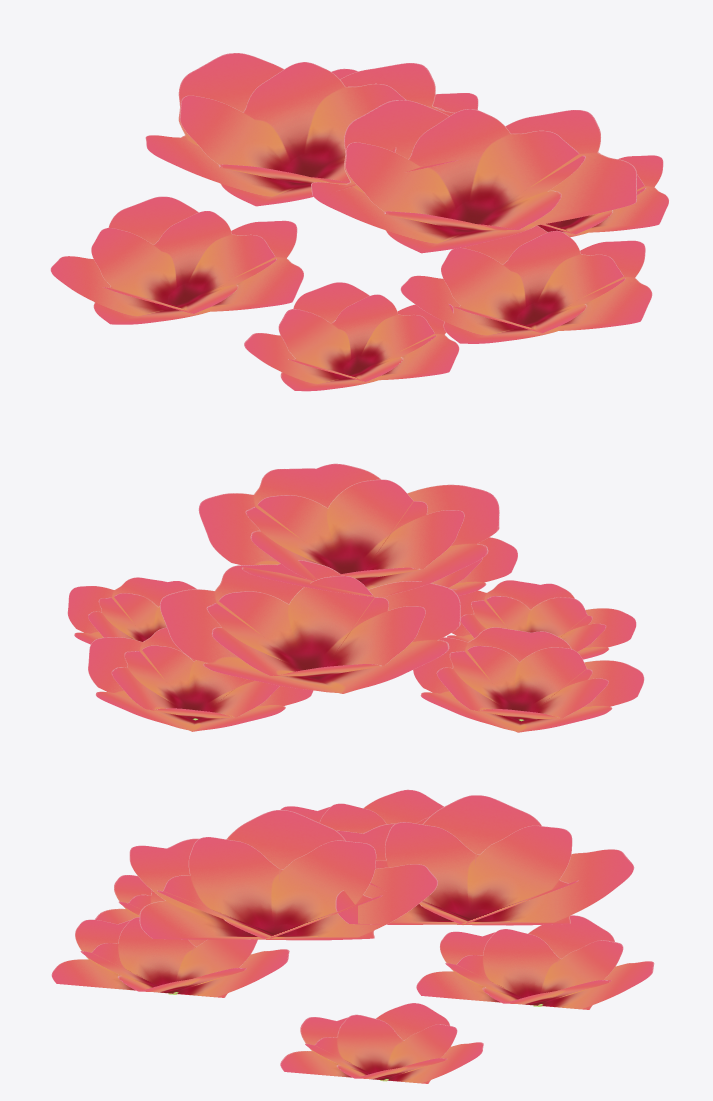
The model's file is SM_Flowers.fbx.
The picture shows the model from 3 angles, top to bottom: view 1: azimuth 30°, elevation 25°; view 2: azimuth 150°, elevation 25°; view 3: azimuth 270°, elevation 25°; orthographic projection. The views are drawn at different scales.
Parts seen in each view (by area): view 1: Flowers; view 2: Flowers; view 3: Flowers.
Boxes of the visible parts, x1=… form: Flowers: x1=50, y1=53, x2=668, y2=391; Flowers: x1=67, y1=463, x2=644, y2=732; Flowers: x1=51, y1=789, x2=654, y2=1083.
Size of the model in its own units: 18.33 by 3.88 by 17.52.
